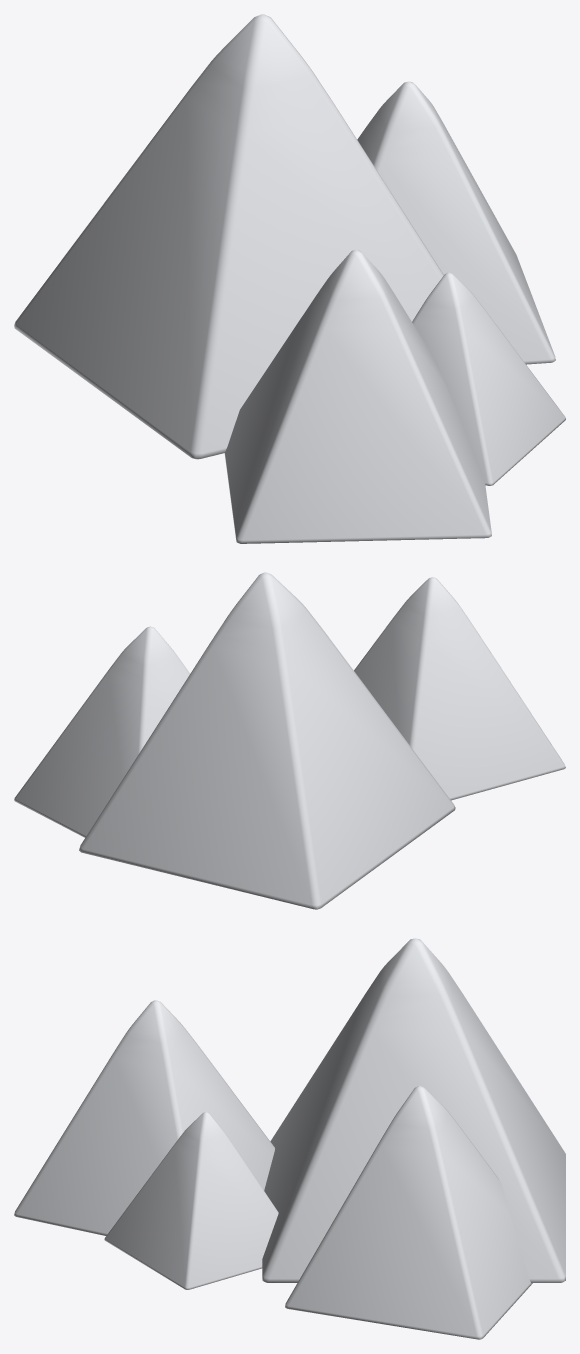
File: bush-49_col.fbx
3 renders of one model, top to bottom at view 1: azimuth 30°, elevation 25°; view 2: azimuth 150°, elevation 25°; view 3: azimuth 270°, elevation 25°, orthographic. The views are drawn at different scales.
Visible parts, largest first — view 1: bush-49.col; view 2: bush-49.col; view 3: bush-49.col.
Part boxes in pixels (box(x1,y1,x2,y2)): bush-49.col: box(14, 14, 565, 543); bush-49.col: box(14, 572, 565, 909); bush-49.col: box(14, 938, 565, 1339).
Size of the model in its own units: 0.2099 by 0.138 by 0.2415.
1 material, 1 textured.
